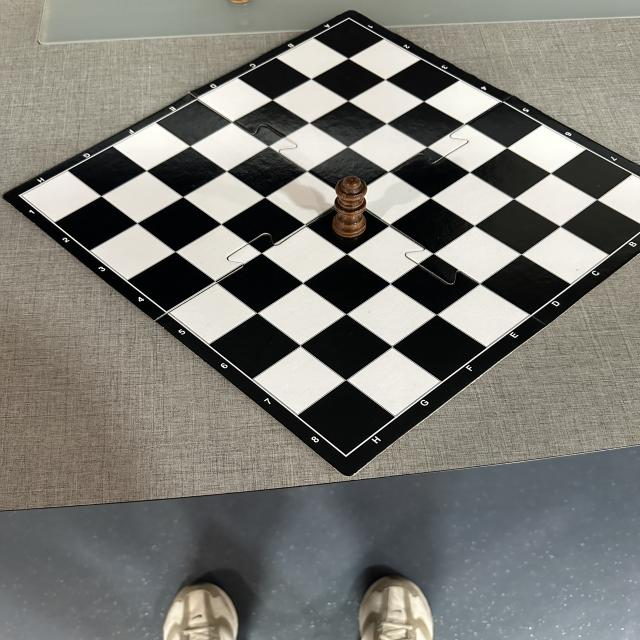Black-Queen: (332, 176, 368, 238)
